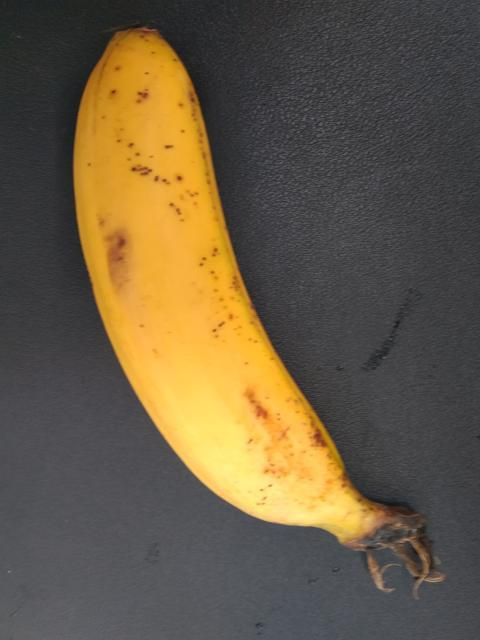ripe: (69, 31, 384, 592)
